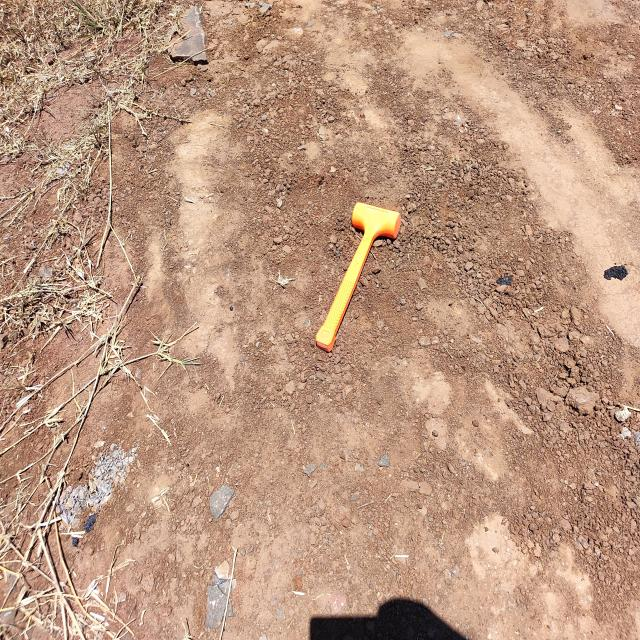Orange_hammer: (315, 200, 401, 352)
